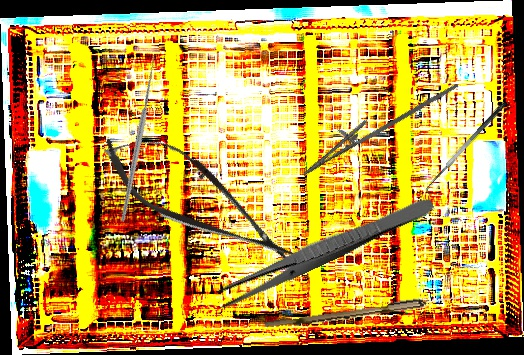Dressing Forceps: (212, 189, 437, 312)
Hook Surgical: (51, 49, 220, 223)
Micro Scissor: (88, 112, 312, 288)
Needle Holder: (294, 55, 459, 194)
Spatula Surgical: (419, 100, 515, 198)
Surgical Spoon: (264, 288, 480, 333)
